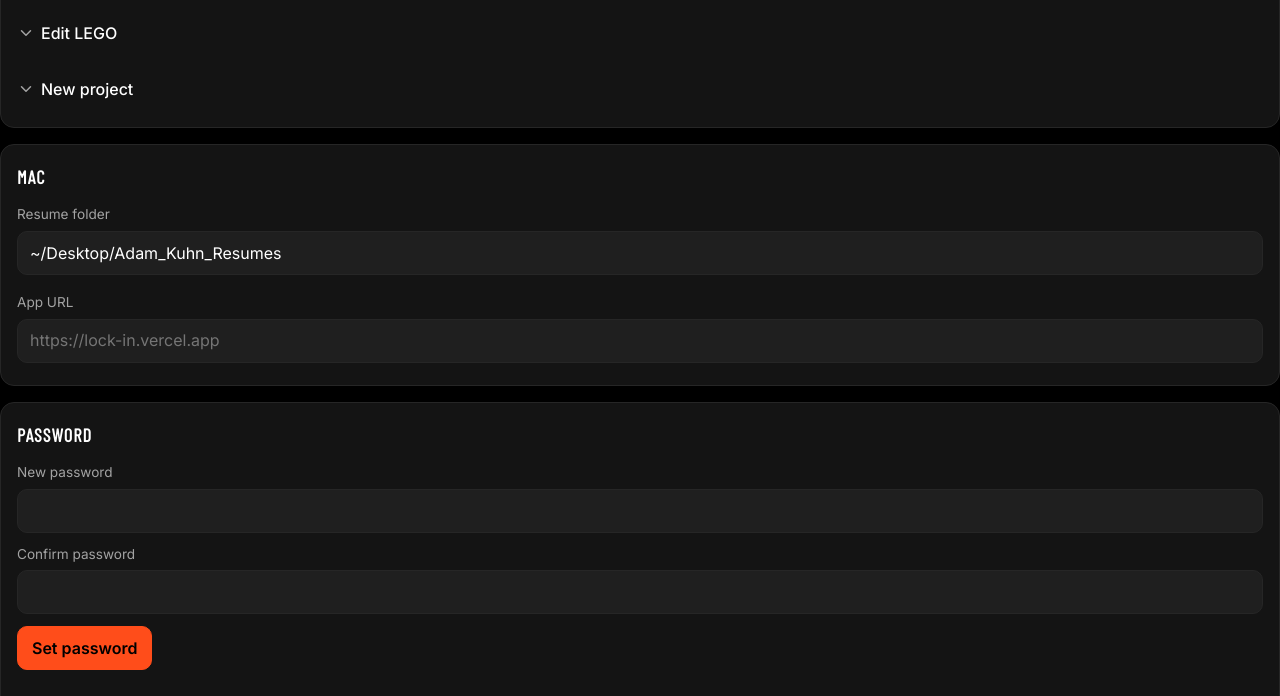
Test: Settings › rejects a non-http app URL
(page scrolled)
Step 1. Type "javascript:alert(1)" into the field labelled "App URL" → (640, 341), box [17, 319, 1263, 363]
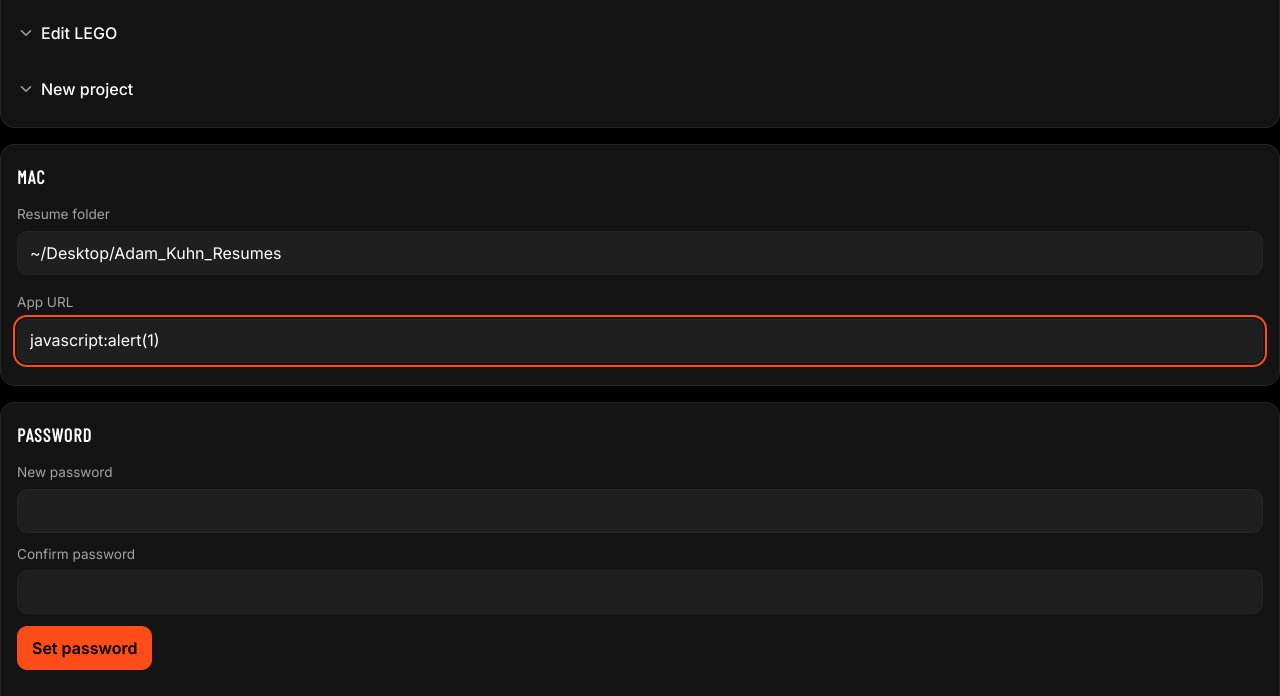
Step 2. Press Tab
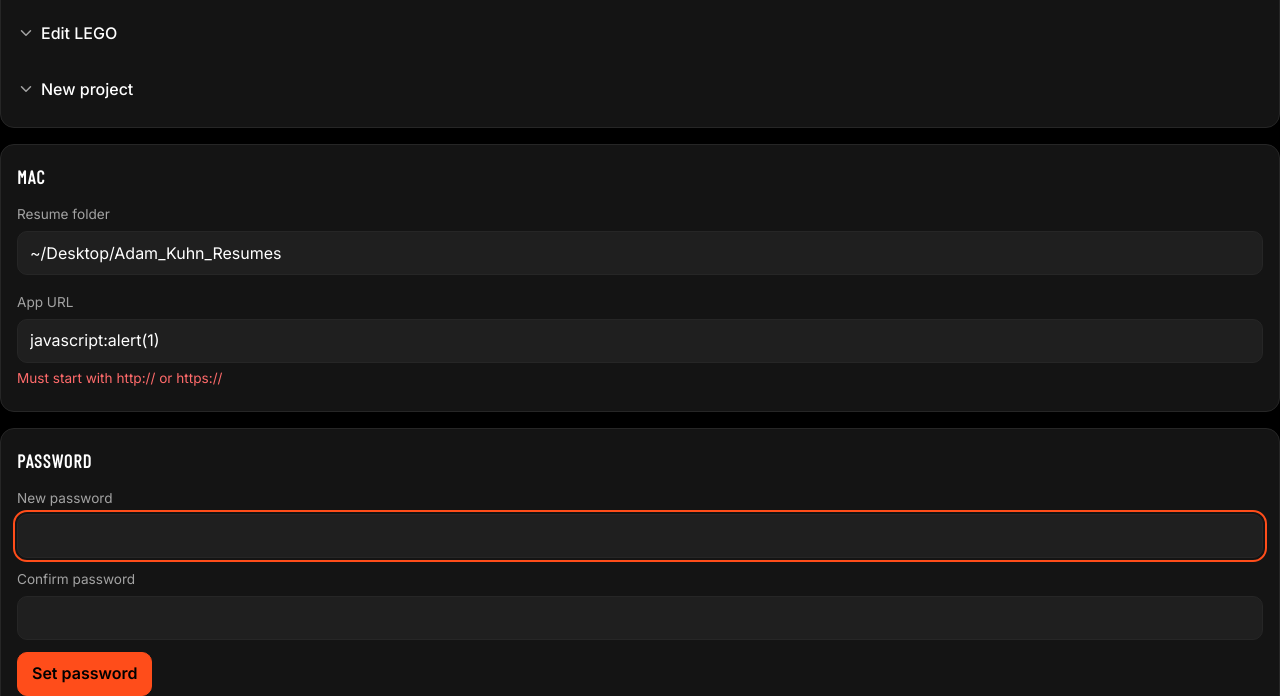
Expected: the text "Must start with http:// or https://" is shown, [17, 370, 222, 386]
